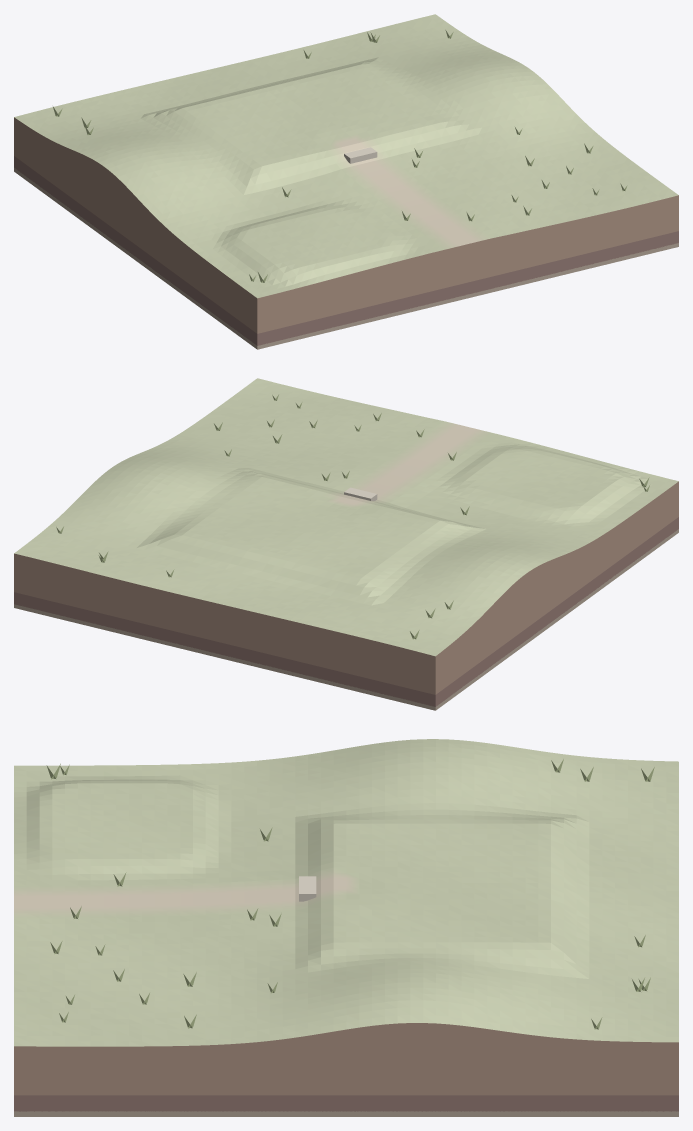
3 views of the same model, one above another, from view 1: azimuth 30°, elevation 25°; view 2: azimuth 150°, elevation 25°; view 3: azimuth 270°, elevation 25° (orthographic). The views are drawn at different scales.
Parts seen in each view (by area): view 1: proc_ground, proc_skirt, proc_grass; view 2: proc_ground, proc_skirt, proc_grass; view 3: proc_ground, proc_skirt, proc_grass.
Boxes of the visible parts, left/top/right/bottom form: proc_ground: left=14, top=14, right=678, bottom=298; proc_skirt: left=14, top=117, right=678, bottom=349; proc_grass: left=53, top=30, right=627, bottom=282; proc_ground: left=14, top=378, right=678, bottom=656; proc_skirt: left=14, top=481, right=678, bottom=710; proc_grass: left=56, top=394, right=649, bottom=639; proc_ground: left=14, top=739, right=678, bottom=1046; proc_skirt: left=14, top=1023, right=678, bottom=1116; proc_grass: left=46, top=759, right=654, bottom=1029.
Size of the model in its own units: 8 by 1.36 by 8.
